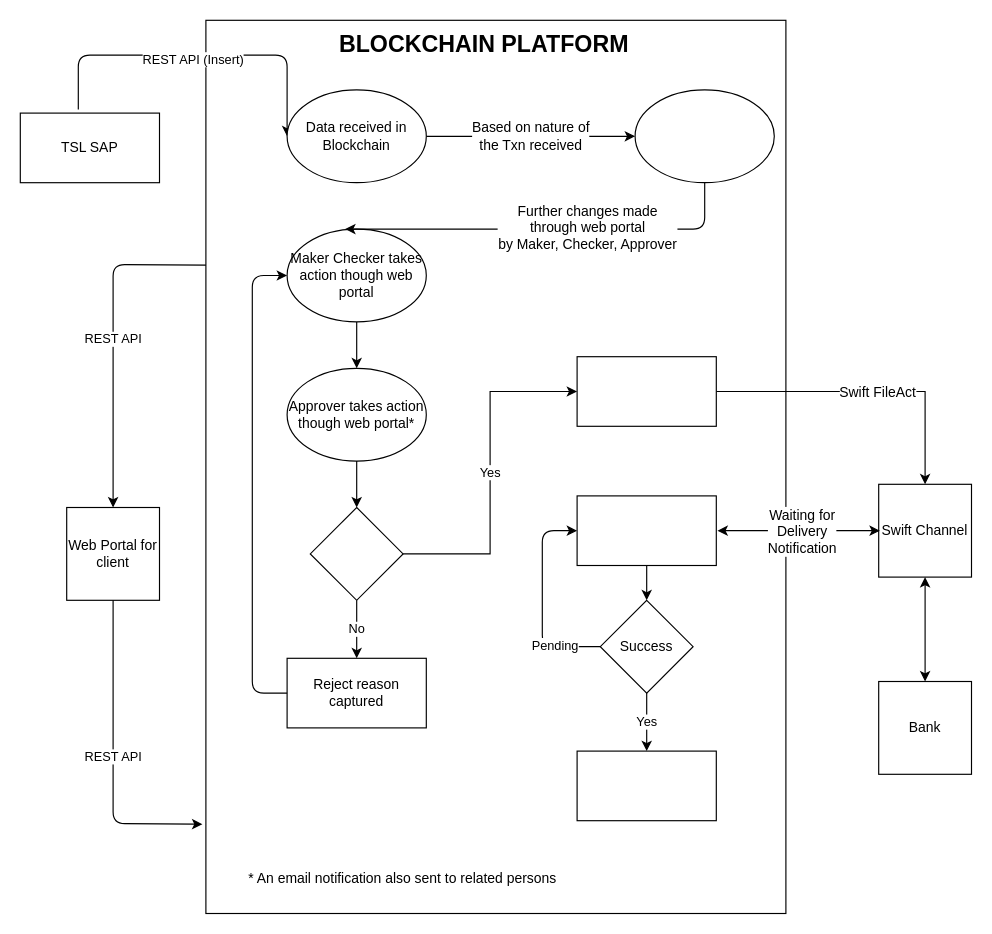
The diagram is 992 pixels wide and 934 high, and some of its shapes have lost their labels. Each missing label, with the centre of its shape:
"A1, A2, NNDO, LC etc is categorized in respective buckets" belongs at [704,136].
"Approved" belongs at [356,553].
"Checking status with bank and updates the information" belongs at [646,530].
"Txn Information is converted to MT798/770" belongs at [646,391].
"Updates status to delivered" belongs at [646,785].
